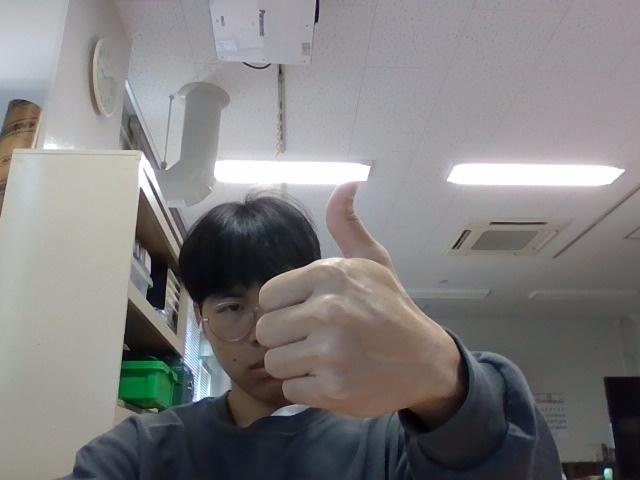thumbs-up: (255, 171, 467, 425)
